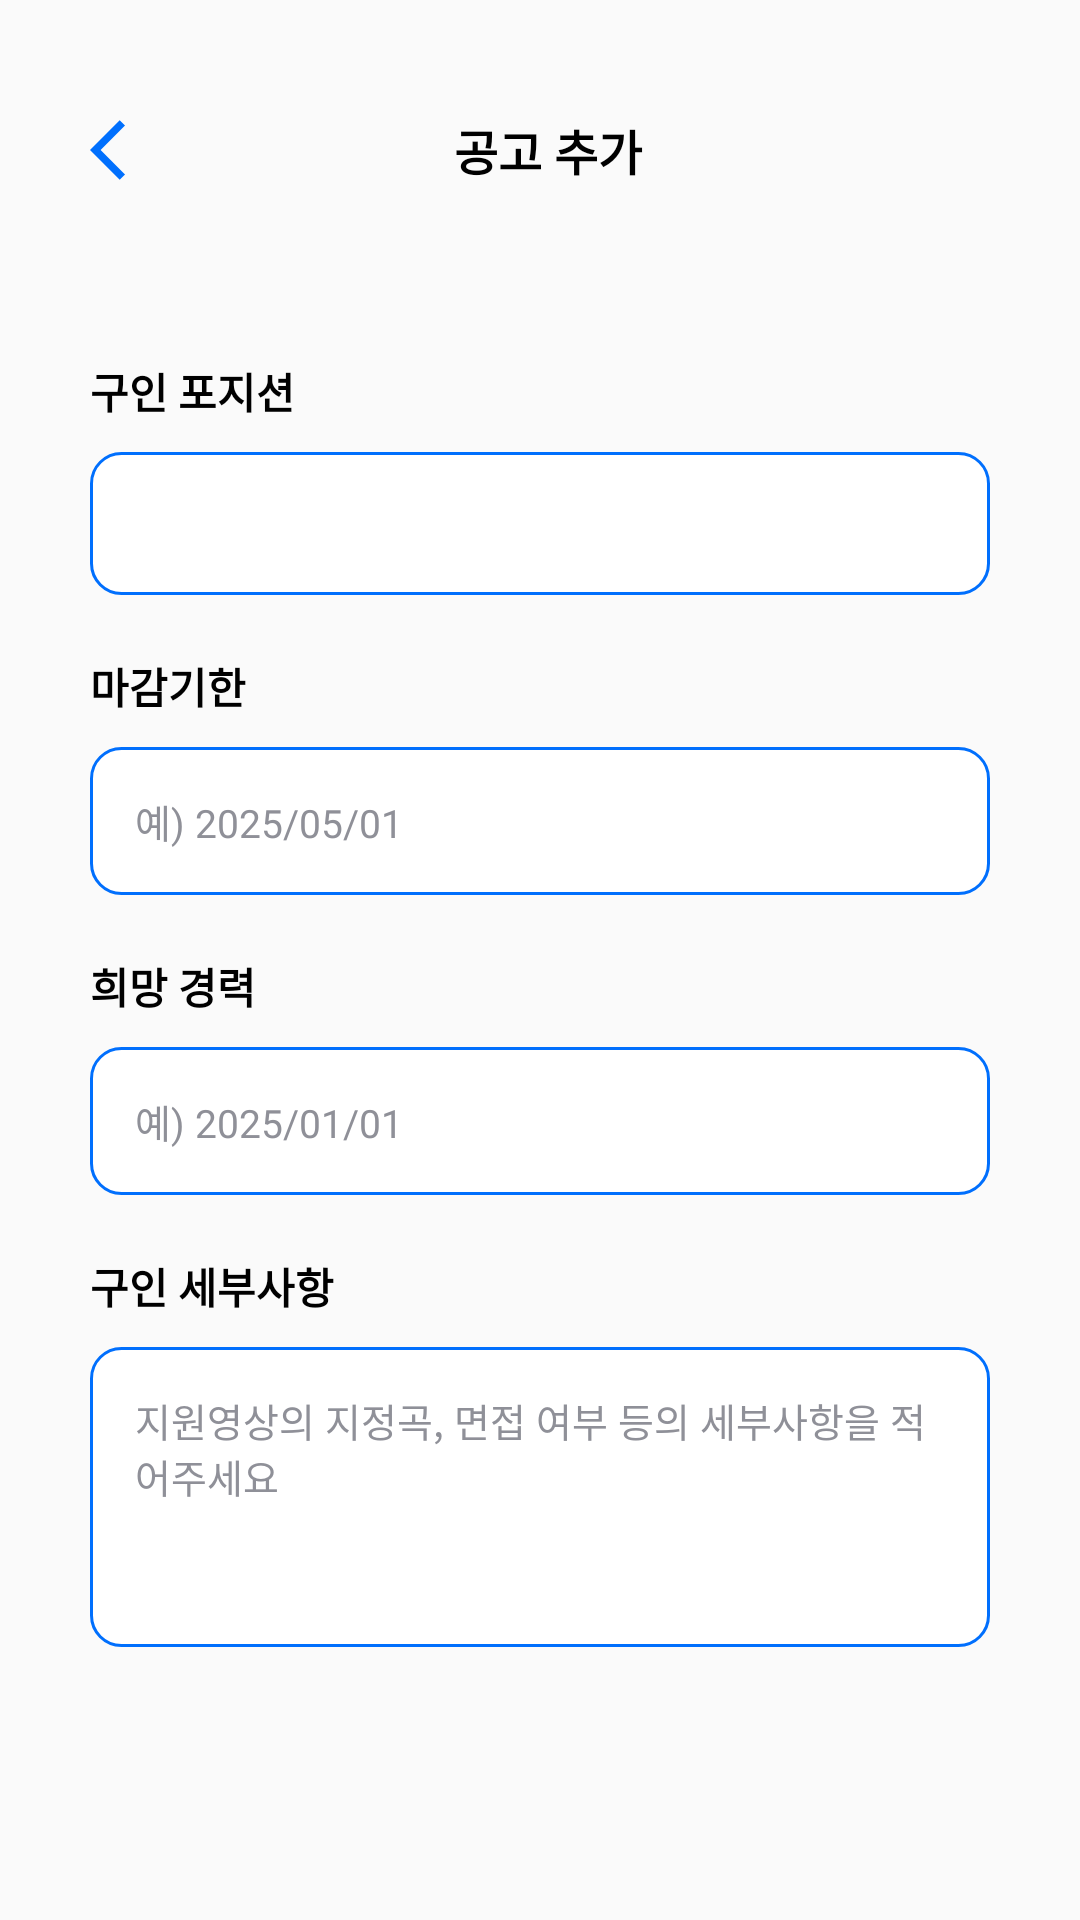

Icons on this 1080 x 1920 Android screen, each with the point to tap as point (x, y):
arrow back: point (107, 150)
